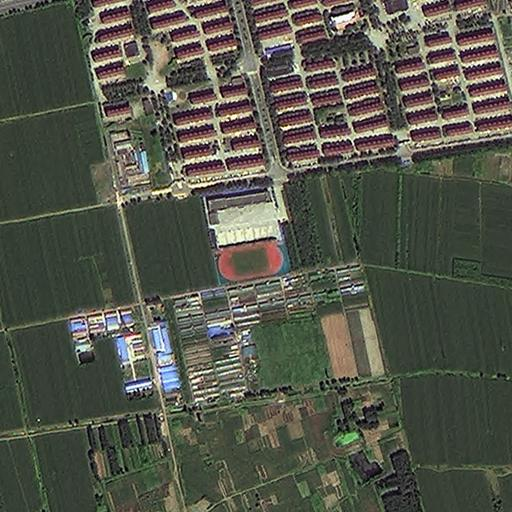school: (202, 181, 290, 285)
